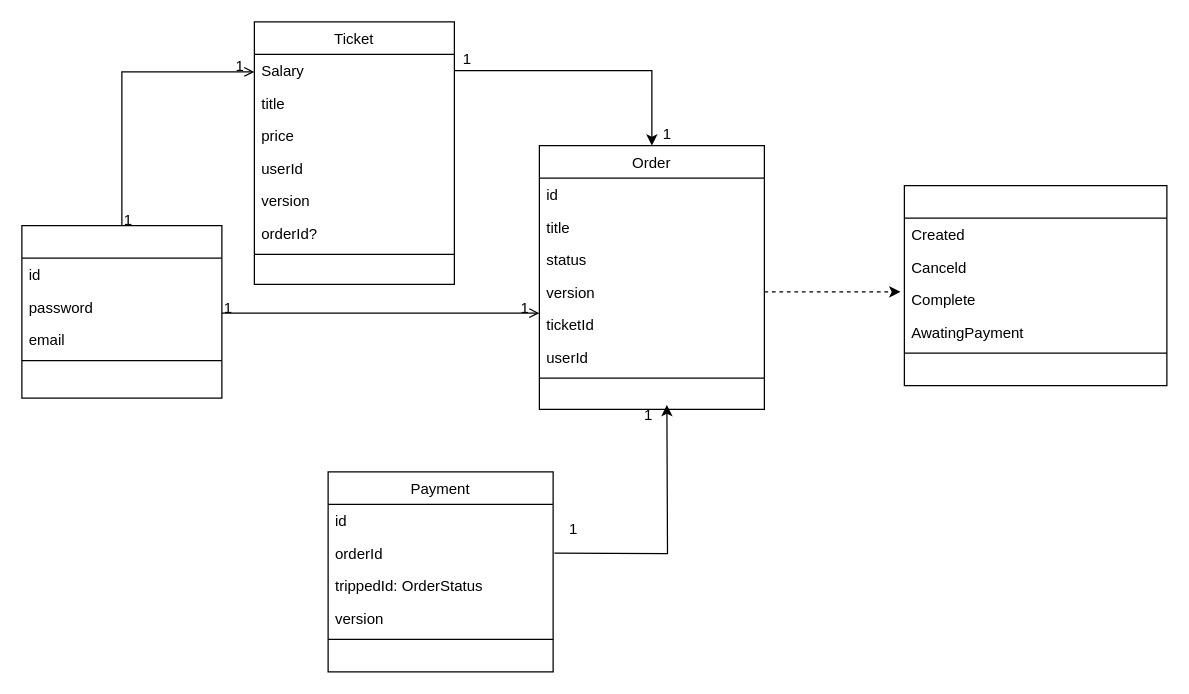
Some shapes in this 1189 by 694 pixel diagram are drawn without their labels. Here are the shapes that lost their labels. From the top down, the box of each, then its label:
(903, 184, 1167, 386): OrderStatus
(21, 224, 222, 398): User
